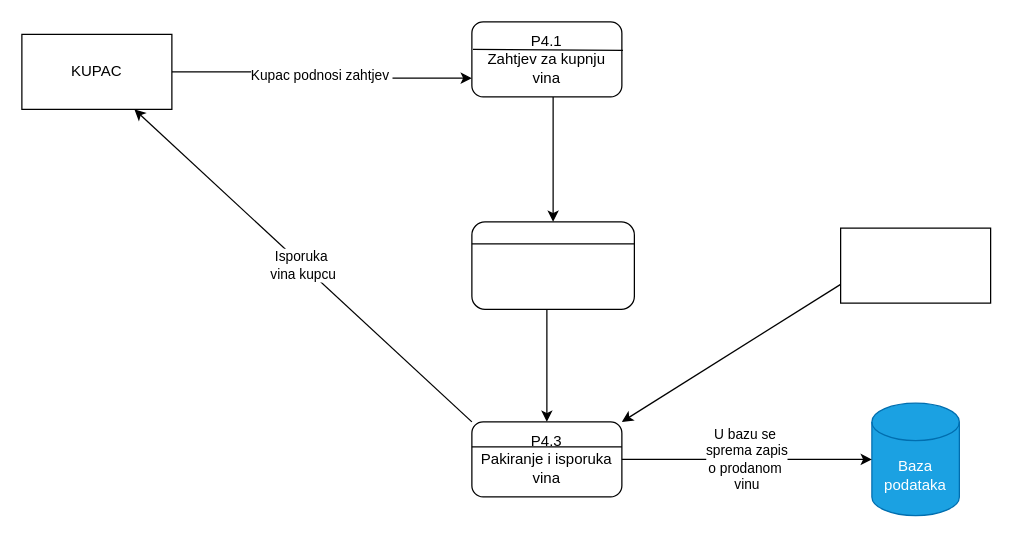
This 1013x538 diagram has some shape labels left out. Here are the shapes that lost their labels. From the top down, the centre of each, then its label:
At pixel 552 265: "P4.2 Obrada i administracija narudzbe ( izdavanje računa)".
At pixel 915 265: "DJELATNIK".
